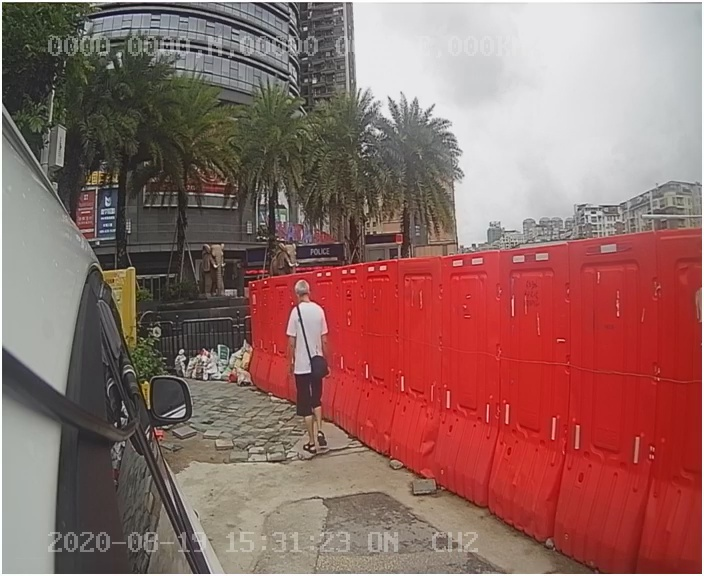person: (279, 277, 345, 457)
